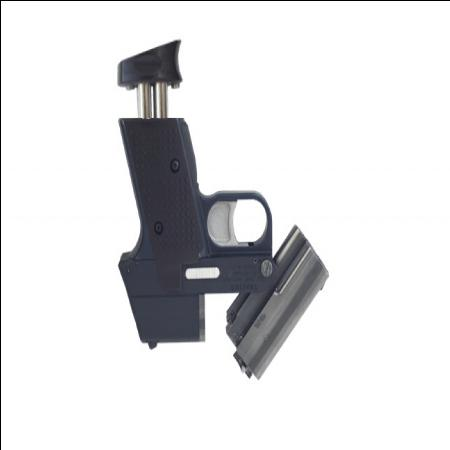Pistol: (86, 33, 336, 378)
